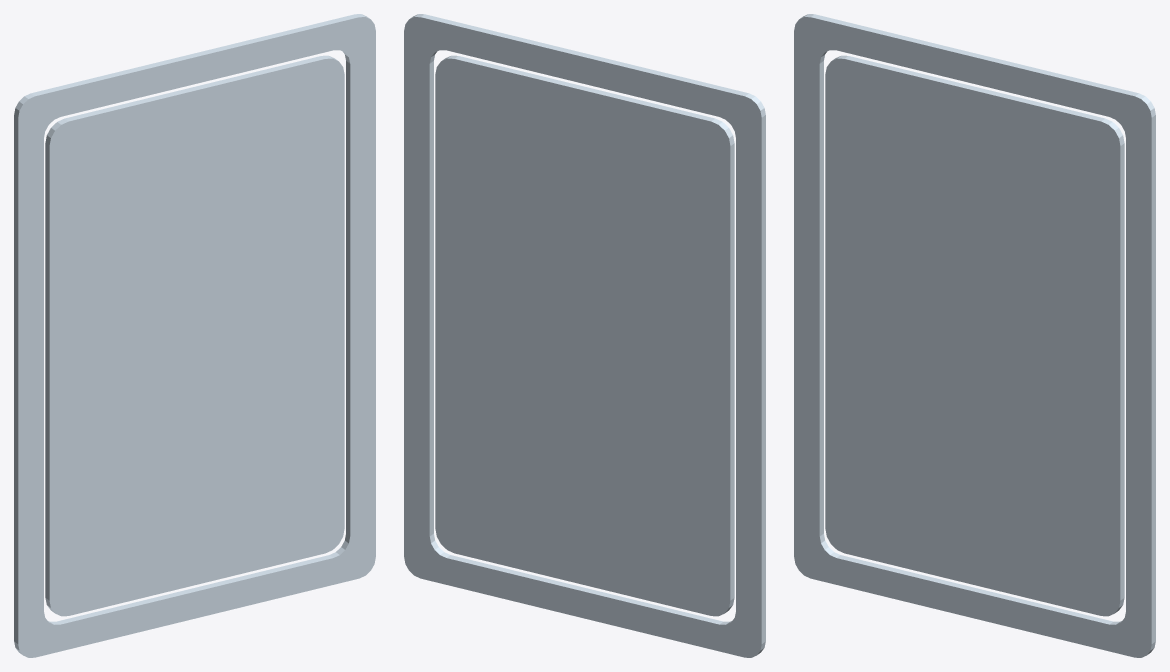
File: Card_3D_Icon_01.fbx
3 views of the same model, side by side, from view 1: azimuth 30°, elevation 25°; view 2: azimuth 150°, elevation 25°; view 3: azimuth 330°, elevation 25° (orthographic).
Visible parts, largest first — view 1: Card_3D_Icon_01; view 2: Card_3D_Icon_01; view 3: Card_3D_Icon_01.
Part boxes in pixels (x1,y1,x2,y2): Card_3D_Icon_01: (14,14,375,657); Card_3D_Icon_01: (404,14,765,657); Card_3D_Icon_01: (794,14,1155,657).
Size of the model in its own units: 100 by 150 by 2.
